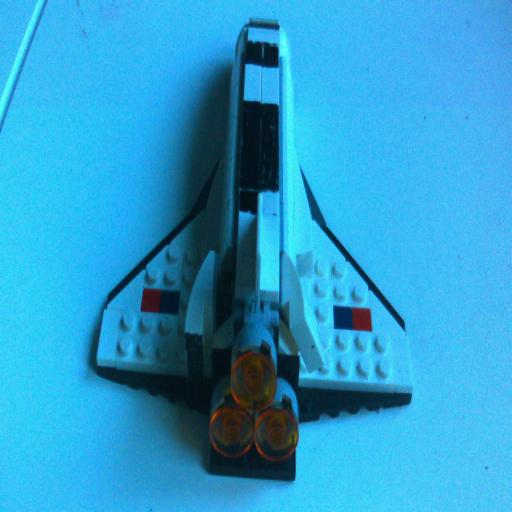defect_colour: (243, 102, 280, 192), (246, 42, 279, 71), (239, 185, 259, 217)
